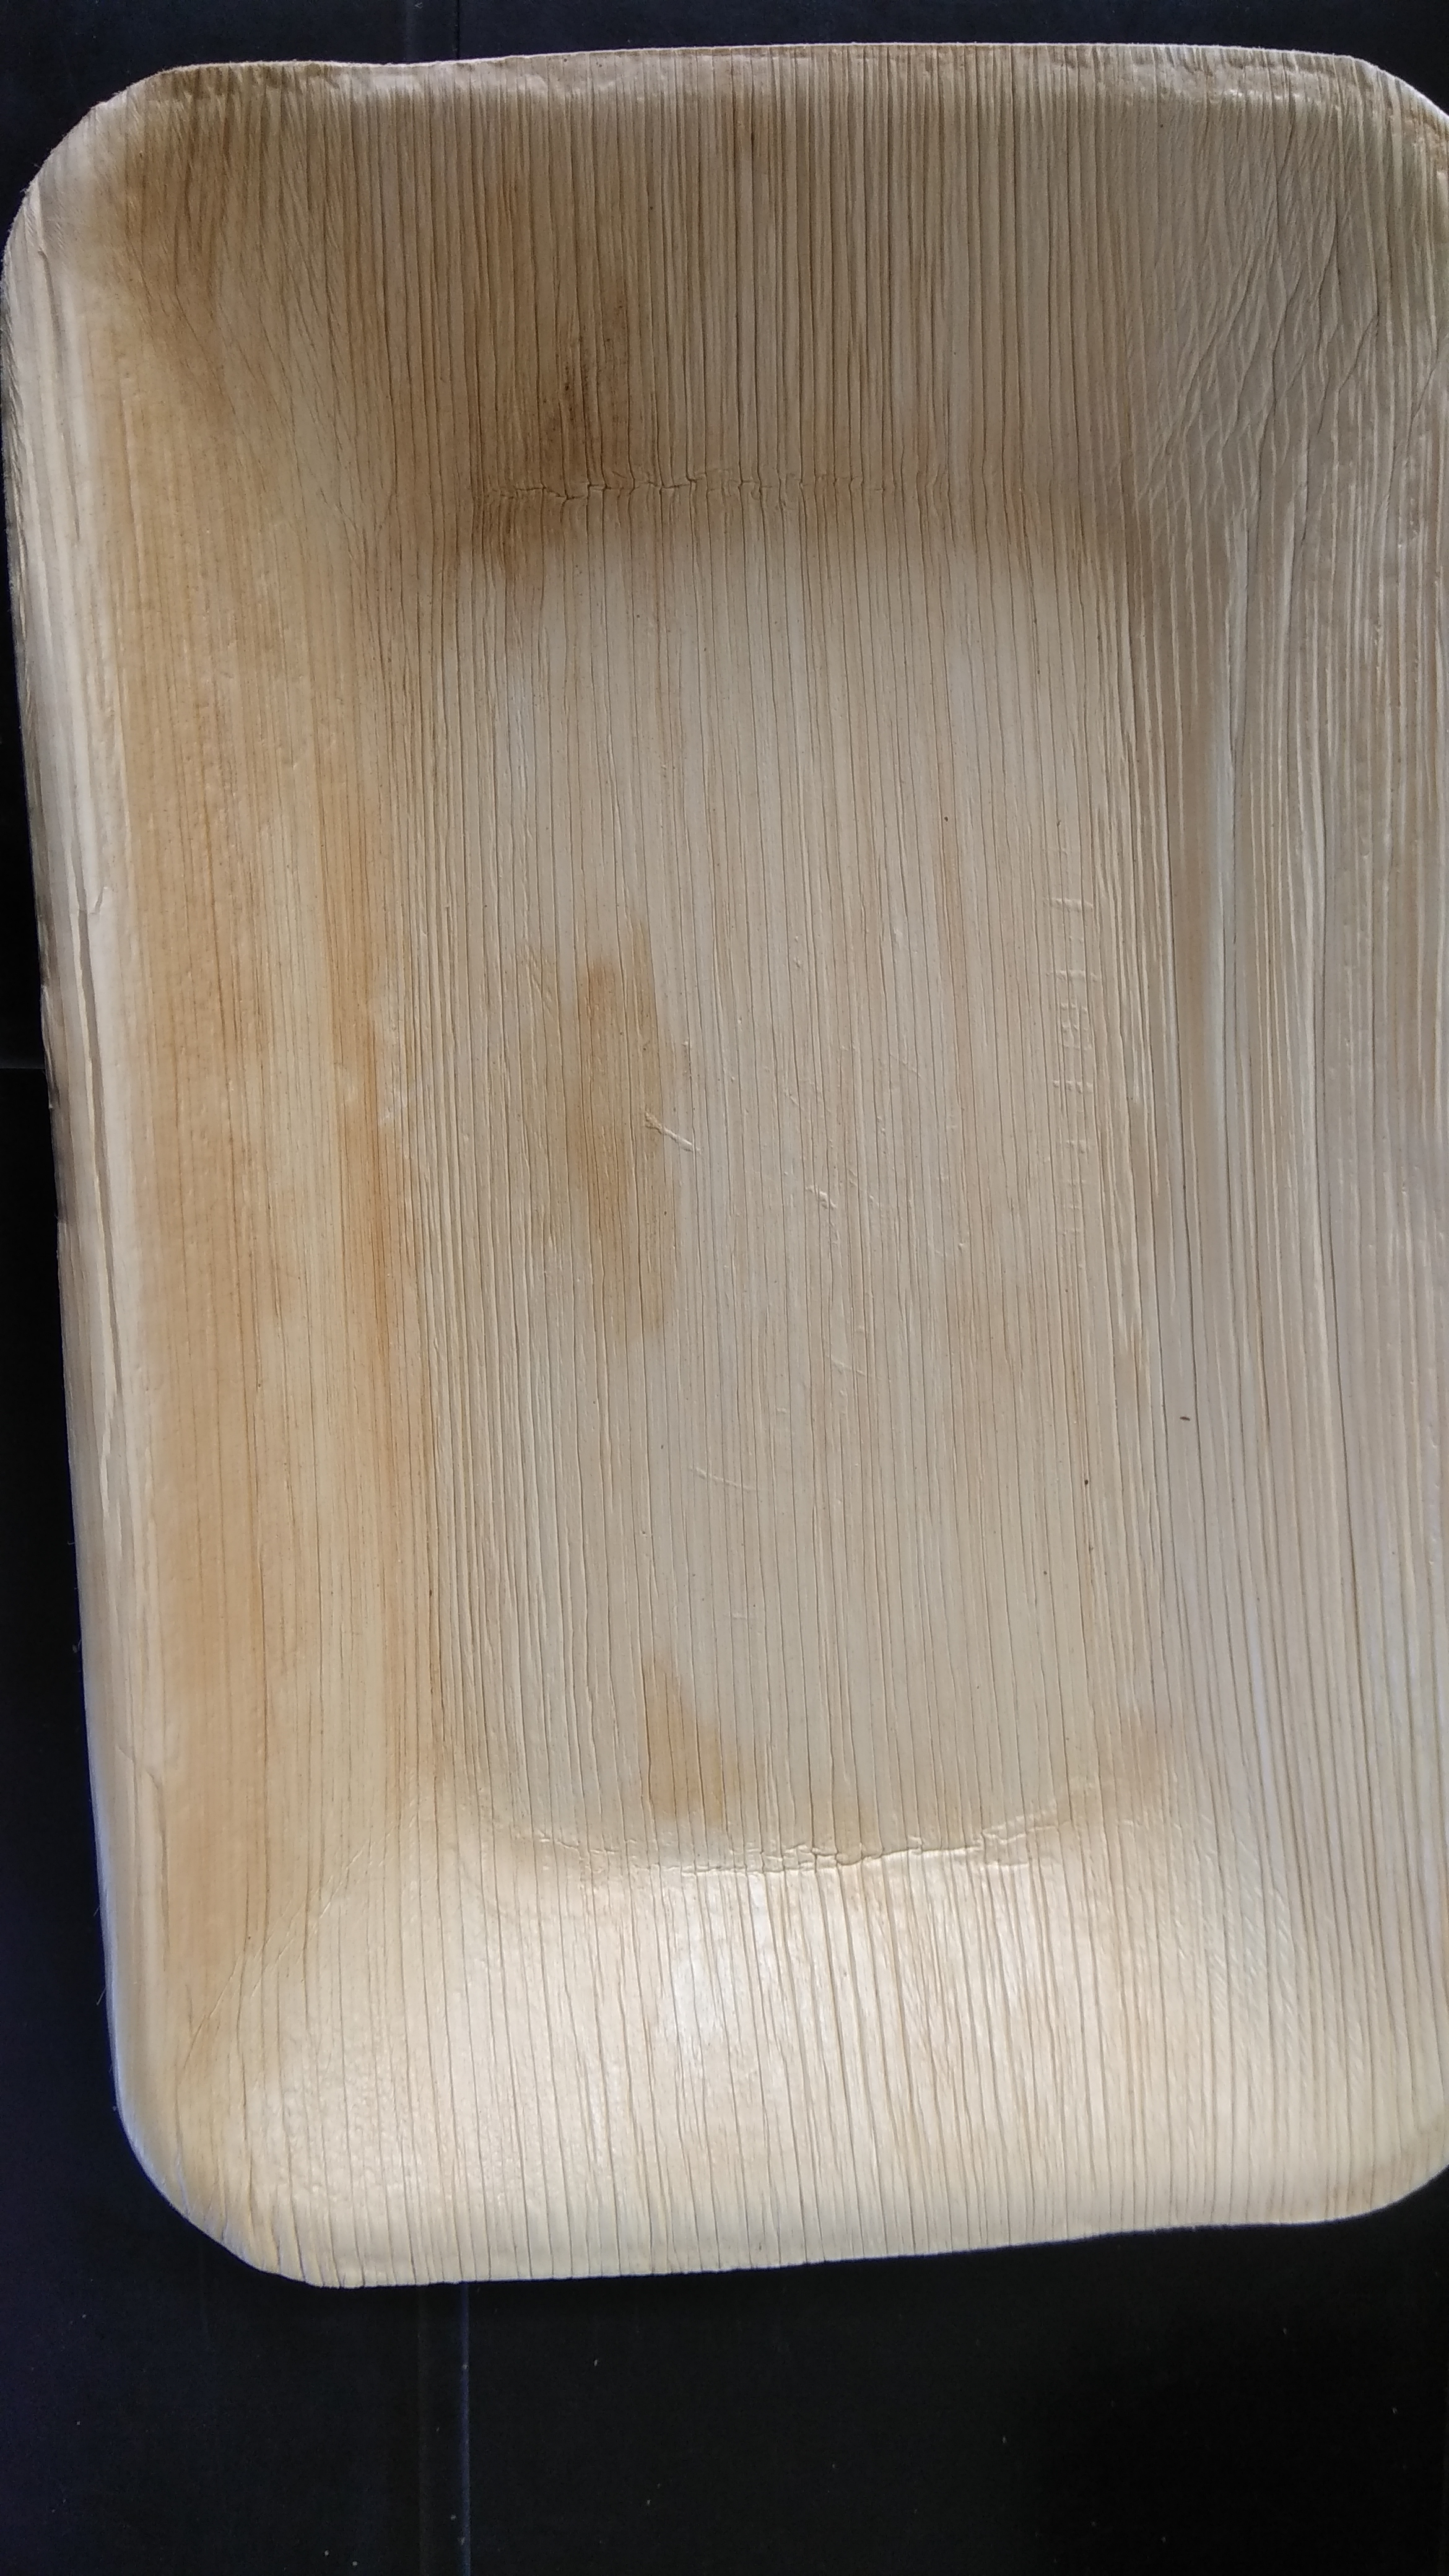areca plate: (9, 16, 1449, 2256)
